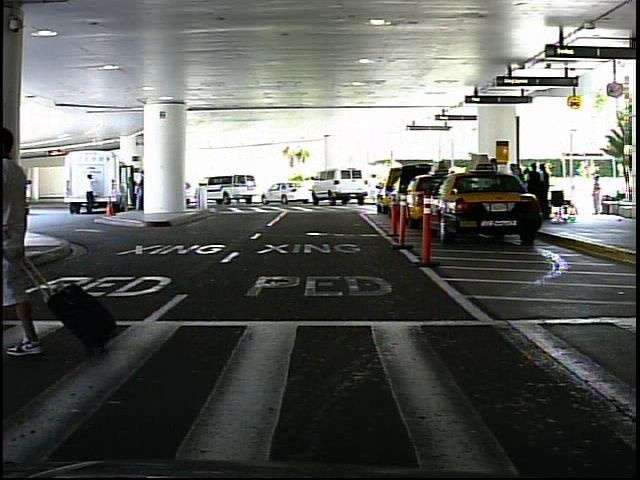person: (0, 111, 51, 358), (588, 172, 607, 218), (82, 171, 101, 216), (368, 169, 382, 203)
